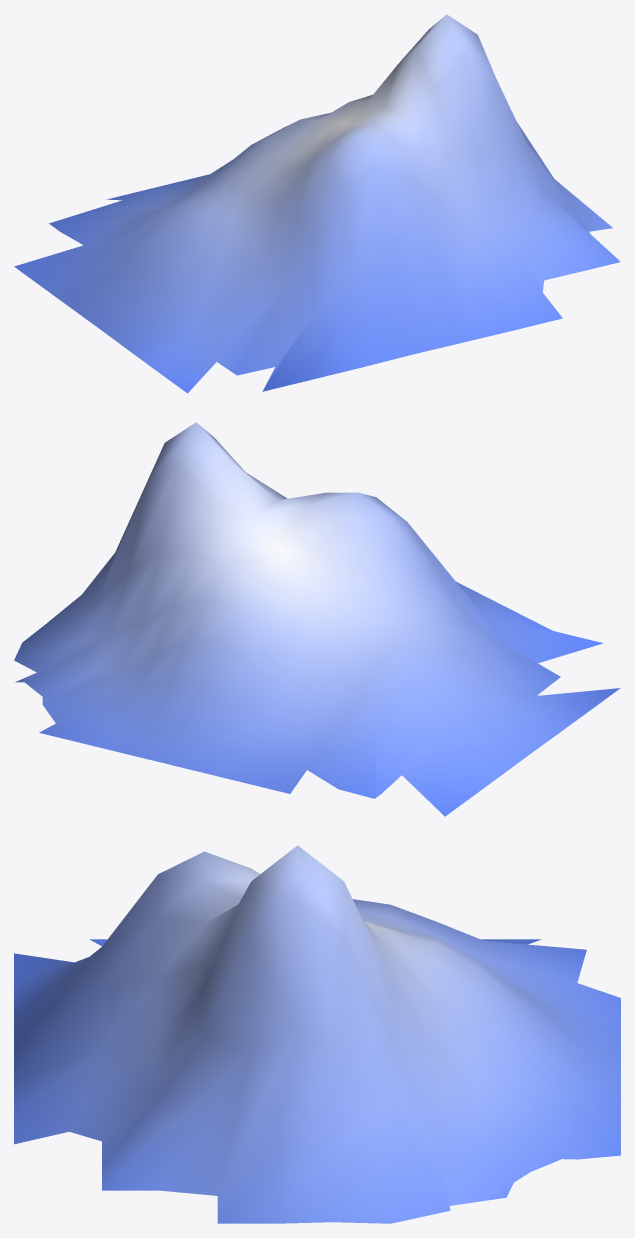
Rendered from Small Moutain Ice idsland 4.fbx.
The picture shows the model from 3 angles, top to bottom: view 1: azimuth 30°, elevation 25°; view 2: azimuth 150°, elevation 25°; view 3: azimuth 270°, elevation 25°; orthographic projection. The views are drawn at different scales.
Visible parts, largest first — view 1: pPlane1; view 2: pPlane1; view 3: pPlane1.
Part boxes in pixels (<box>): pPlane1: <box>14,14,620,393</box>; pPlane1: <box>14,422,620,816</box>; pPlane1: <box>14,845,620,1223</box>.
Bounding box in the file's own units: 34.37 × 16.57 × 29.2.
